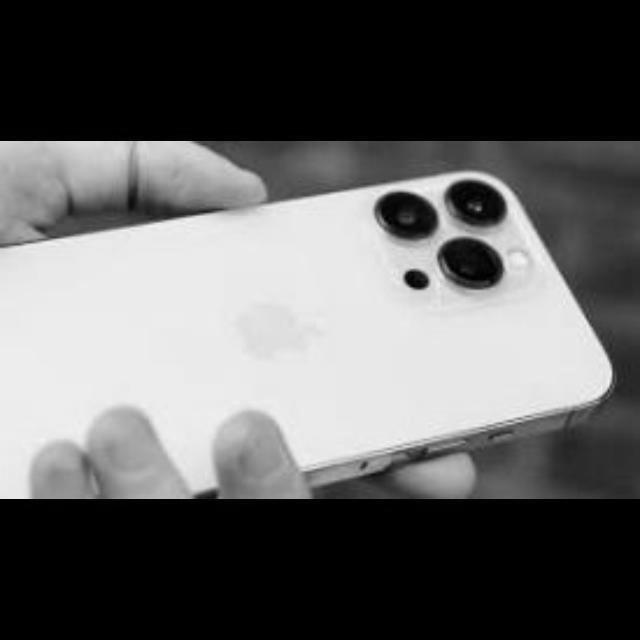fake: (1, 167, 637, 486)
